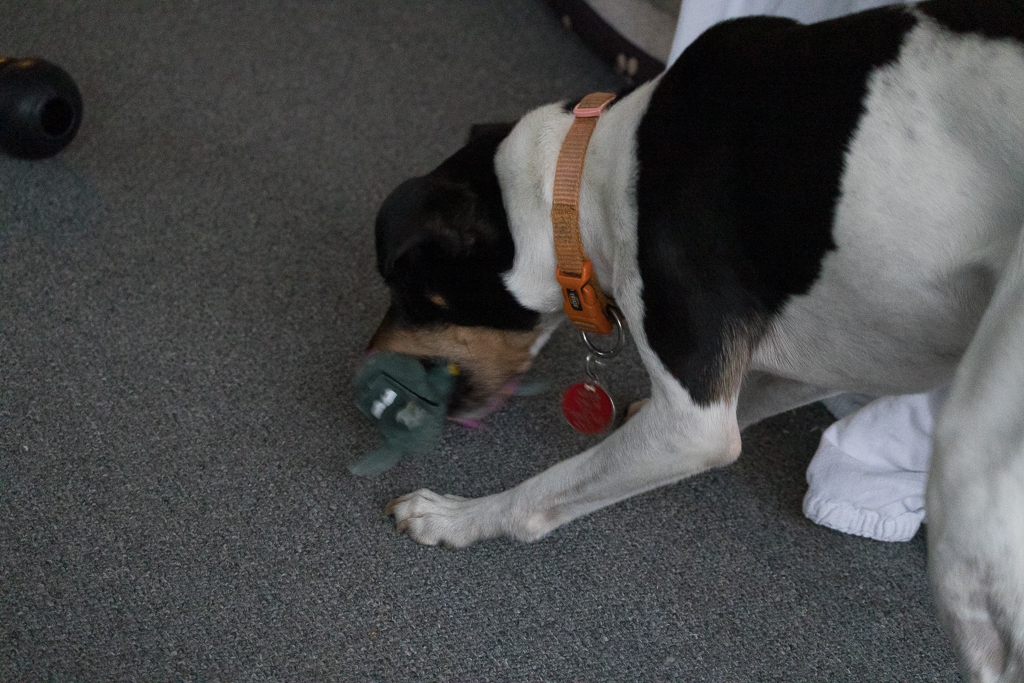Dog: (354, 0, 1024, 683)
Humanoid: (335, 336, 578, 494)
